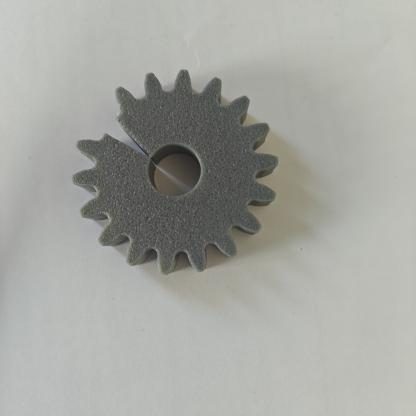defect: (60, 74, 190, 193)
gear: (68, 66, 290, 280)
